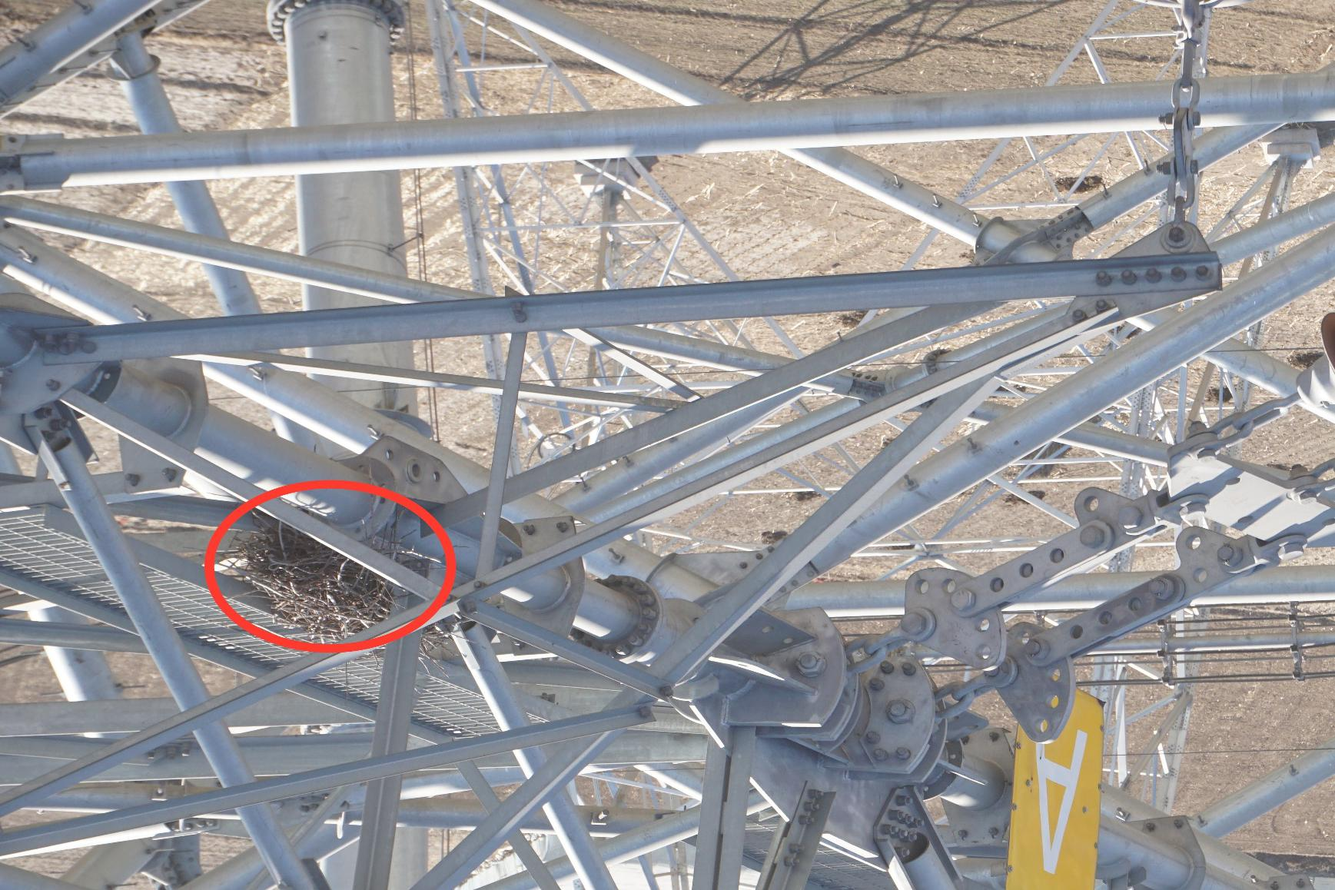nest: (219, 510, 397, 648)
